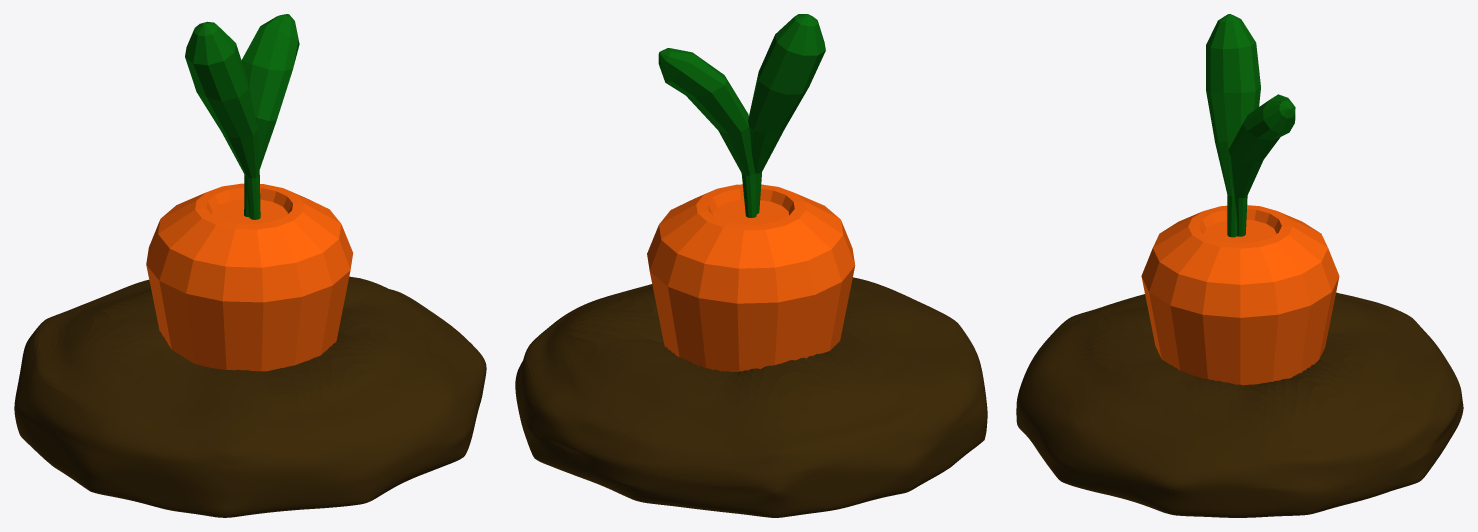
The model's file is carrot.fbx.
The picture shows the model from 3 angles, left to right: view 1: azimuth 30°, elevation 25°; view 2: azimuth 150°, elevation 25°; view 3: azimuth 270°, elevation 25°; orthographic projection. The views are drawn at different scales.
Parts seen in each view (by area): view 1: Cylinder.003; view 2: Cylinder.003; view 3: Cylinder.003.
Part boxes in pixels (<box>): Cylinder.003: <box>14,14,486,517</box>; Cylinder.003: <box>515,14,987,517</box>; Cylinder.003: <box>1016,14,1463,517</box>.
Size of the model in its own units: 444 by 437 by 452.
